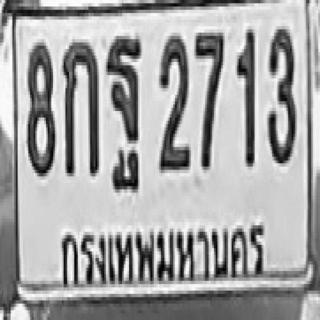A01: (62, 39, 97, 173)
A16: (105, 34, 140, 168)
N01: (235, 26, 255, 163)
N02: (157, 32, 188, 166)
N03: (265, 24, 293, 162)
N07: (193, 28, 223, 165)
N08: (27, 39, 55, 176)
P04: (58, 214, 270, 291)
